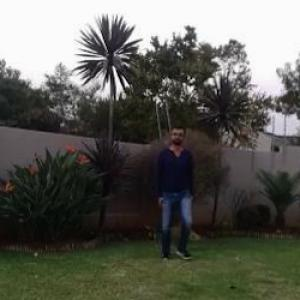follow: (152, 118, 195, 260)
